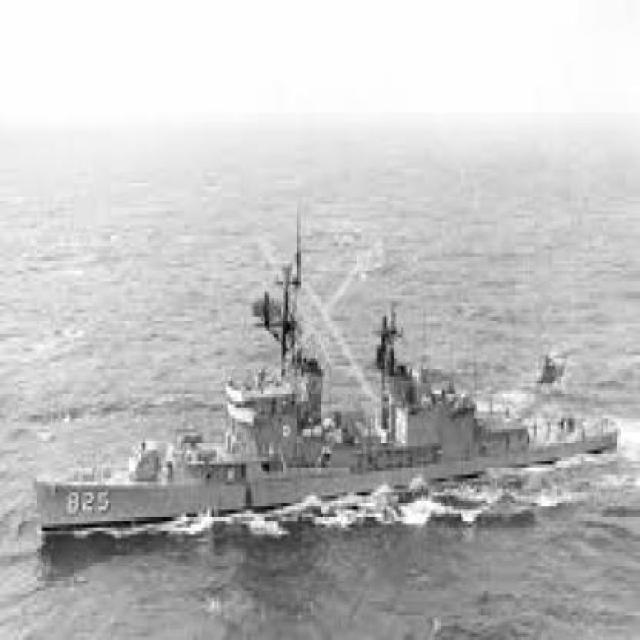warship2: (24, 234, 621, 543)
